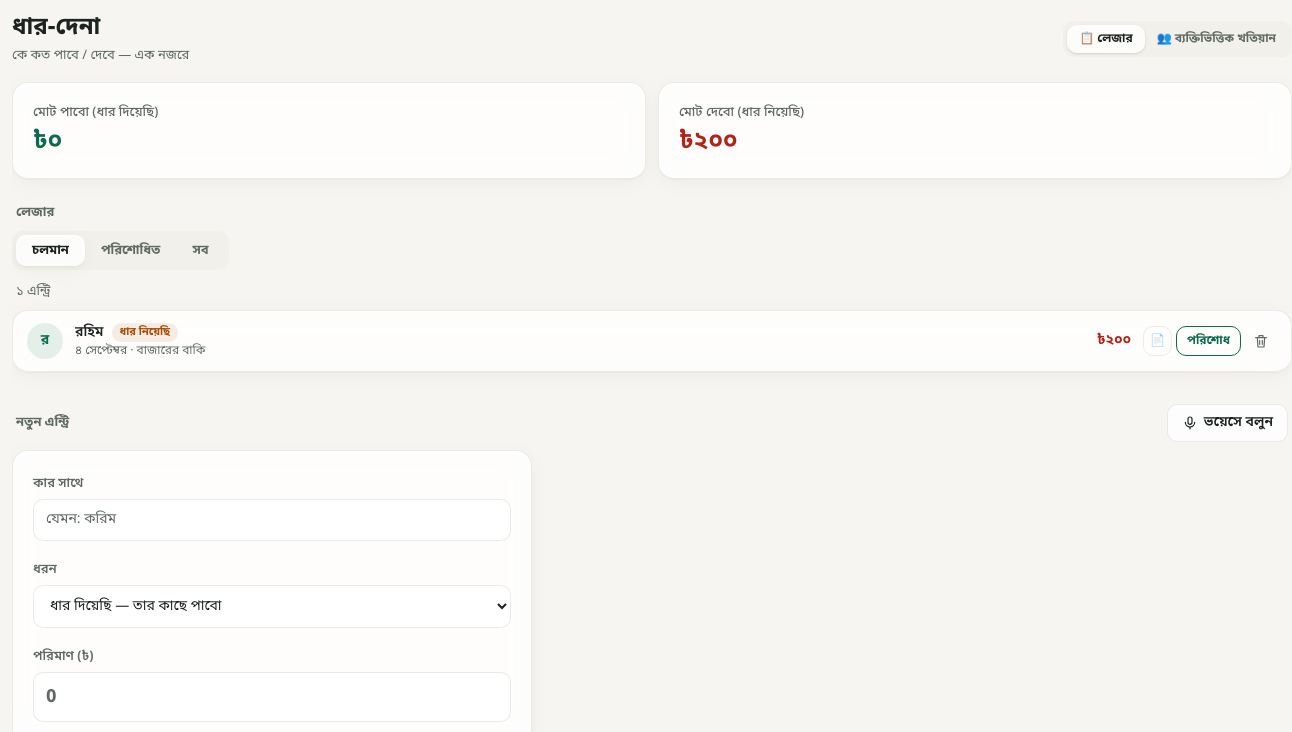
Scenario: Debts screen › settled tab refetches with status=settled and hides pay/delete actions
This screenshot has width=1292, height=732.
Expected: the text "রহিম" is shown, [75,322,104,342]
Click the button "পরিশোধিত" at (131, 250), box [85,234,176,266]
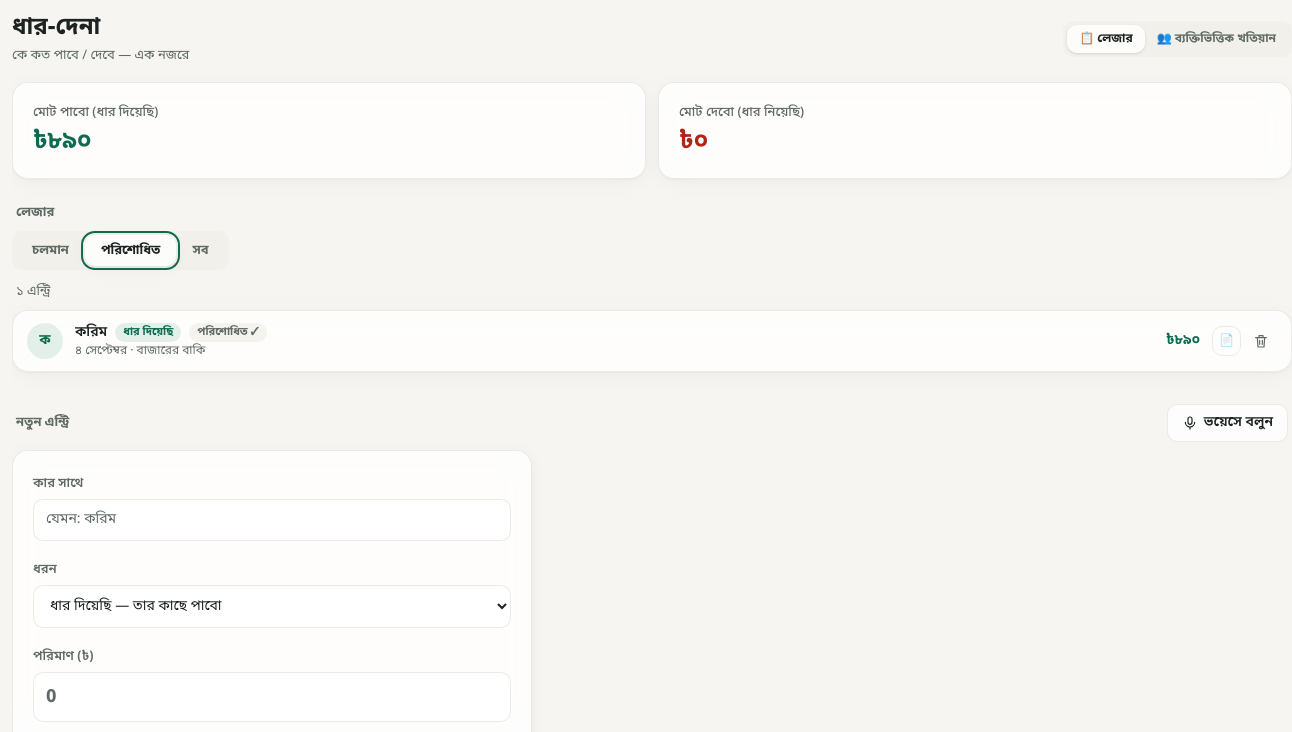
Expected: the text "পরিশোধিত ✓" is shown, [189,323,267,342]
Expected: the text "করিম" is shown, [75,322,107,342]
Expected: the text "রহিম" is gone
